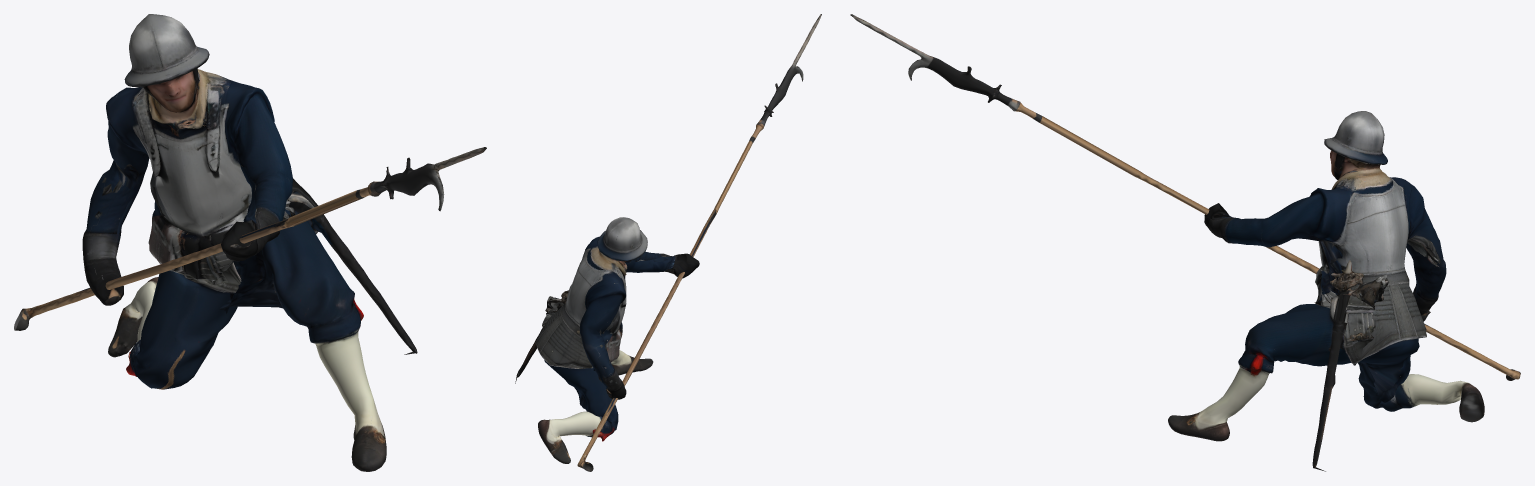
Rendered from PIKEMAN_Swe_F_Def.glb.
3 renders of one model, left to right at view 1: azimuth 30°, elevation 25°; view 2: azimuth 150°, elevation 25°; view 3: azimuth 270°, elevation 25°, orthographic. The views are drawn at different scales.
Parts seen in each view (by area): view 1: Mesh0.003; view 2: Mesh0.003; view 3: Mesh0.003.
Boxes of the visible parts, box(x1,y1,x2,y2) form: Mesh0.003: box(14, 14, 486, 471); Mesh0.003: box(515, 14, 821, 471); Mesh0.003: box(850, 14, 1520, 471).
Size of the model in its own units: 0.806 by 1.5 by 2.33.
Materials: 1 (1 with a texture image).
